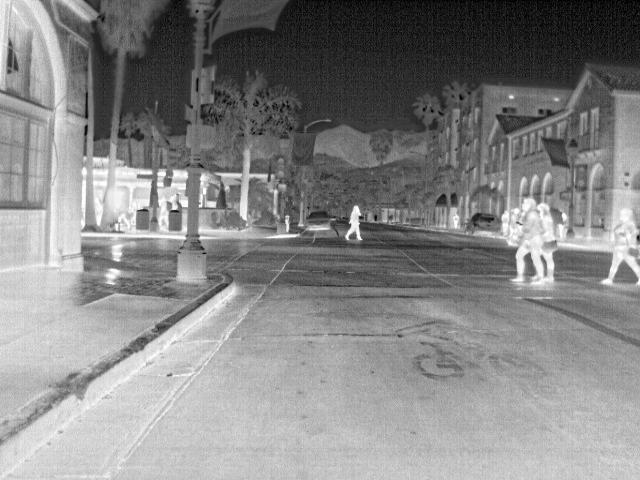car: (468, 212, 503, 236), (305, 208, 333, 233)
person: (600, 206, 640, 286), (511, 199, 547, 283), (539, 203, 557, 283), (346, 204, 368, 245), (157, 196, 171, 228)
